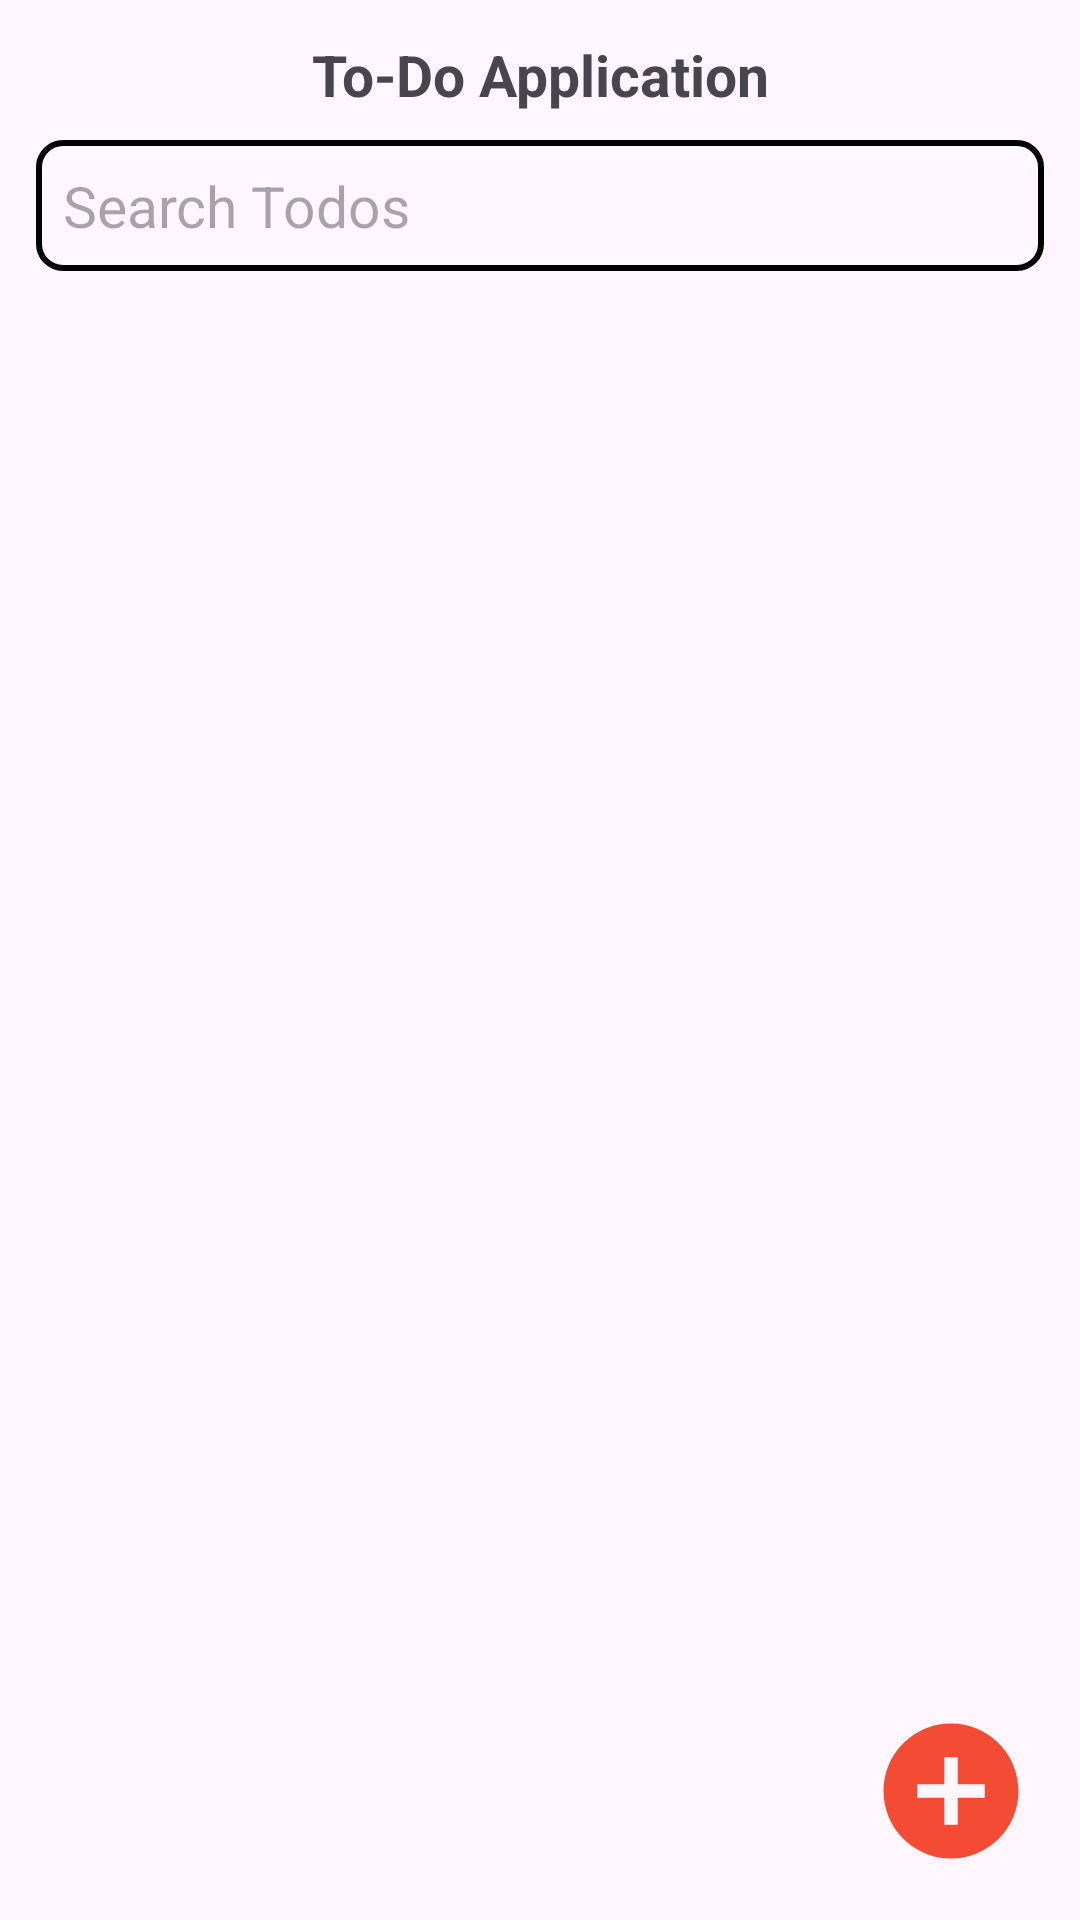

Named icons in this screenshot (1080 × 1920) and their bounding boxes, bbox=[x1, y1, x2, y2]:
add: bbox=[883, 1723, 1019, 1859]
